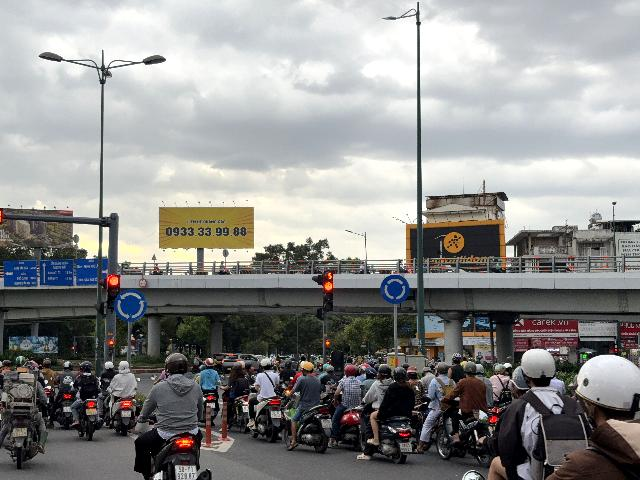noi-giao-nhau-chay-theo-vong-xuyen: (114, 289, 147, 322), (380, 274, 410, 305)
